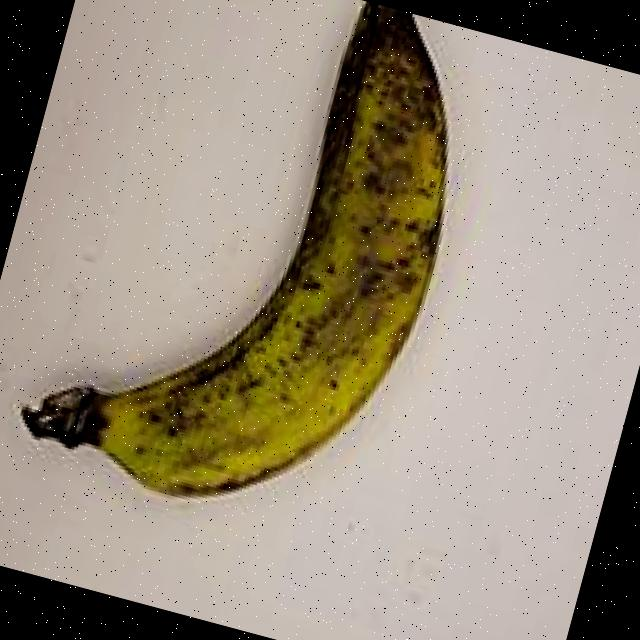Overripe: (0, 0, 520, 565)
